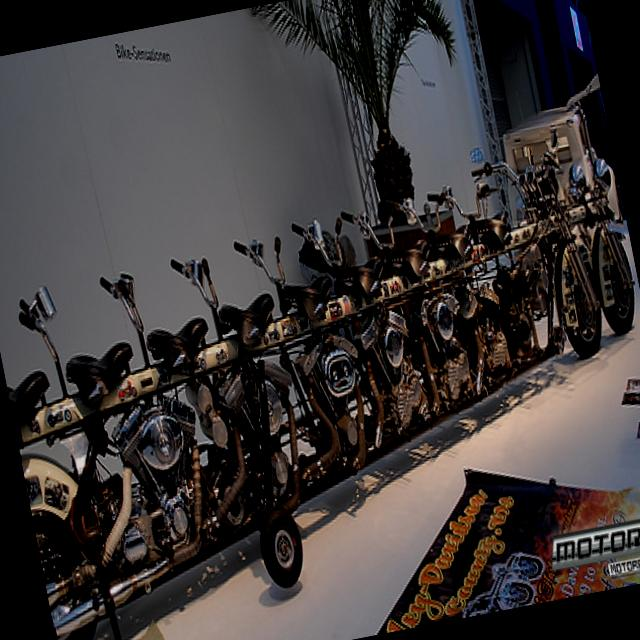Vehicle: (82, 243, 311, 615), (0, 257, 209, 640), (198, 214, 348, 524), (456, 120, 611, 382), (386, 178, 536, 406), (276, 208, 388, 478), (324, 198, 439, 454), (559, 93, 640, 339), (402, 282, 484, 426), (378, 192, 462, 294)
